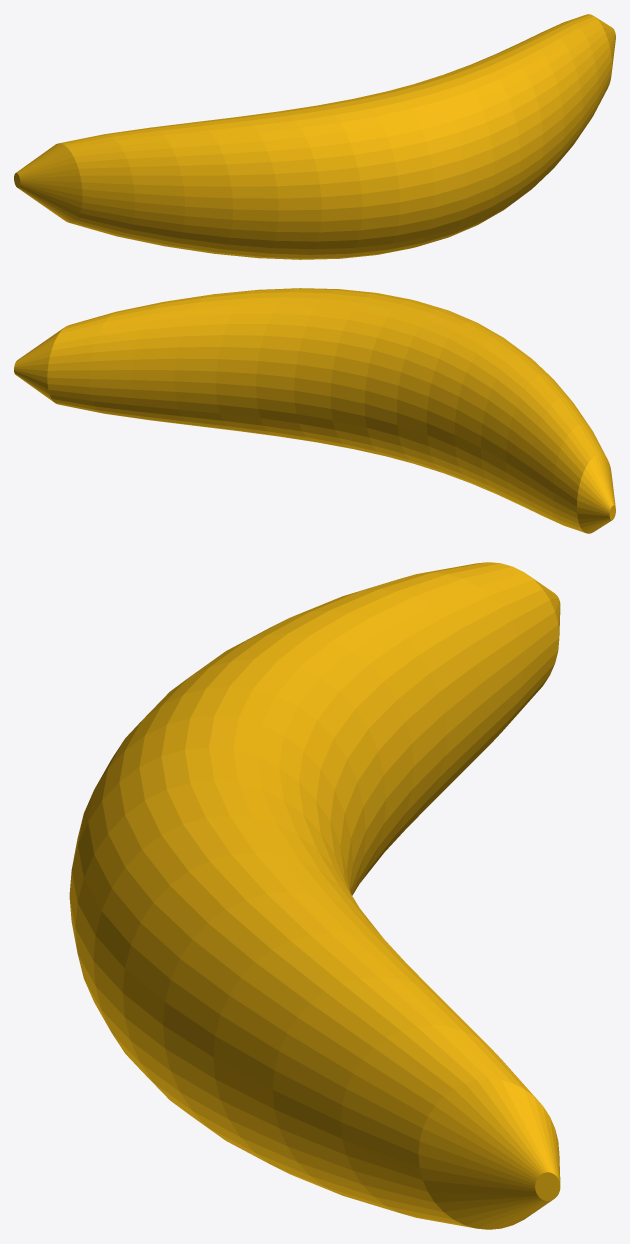
Rendered from banana.obj.
3 renders of one model, top to bottom at view 1: azimuth 30°, elevation 25°; view 2: azimuth 150°, elevation 25°; view 3: azimuth 270°, elevation 25°, orthographic. The views are drawn at different scales.
Parts seen in each view (by area): view 1: banana; view 2: banana; view 3: banana.
Part boxes in pixels (x1,y1,x2,y2): banana: (14,14,615,259); banana: (14,288,615,533); banana: (69,562,560,1229).
Bounding box in the file's own units: 0.13 × 0.031 × 0.0464.
